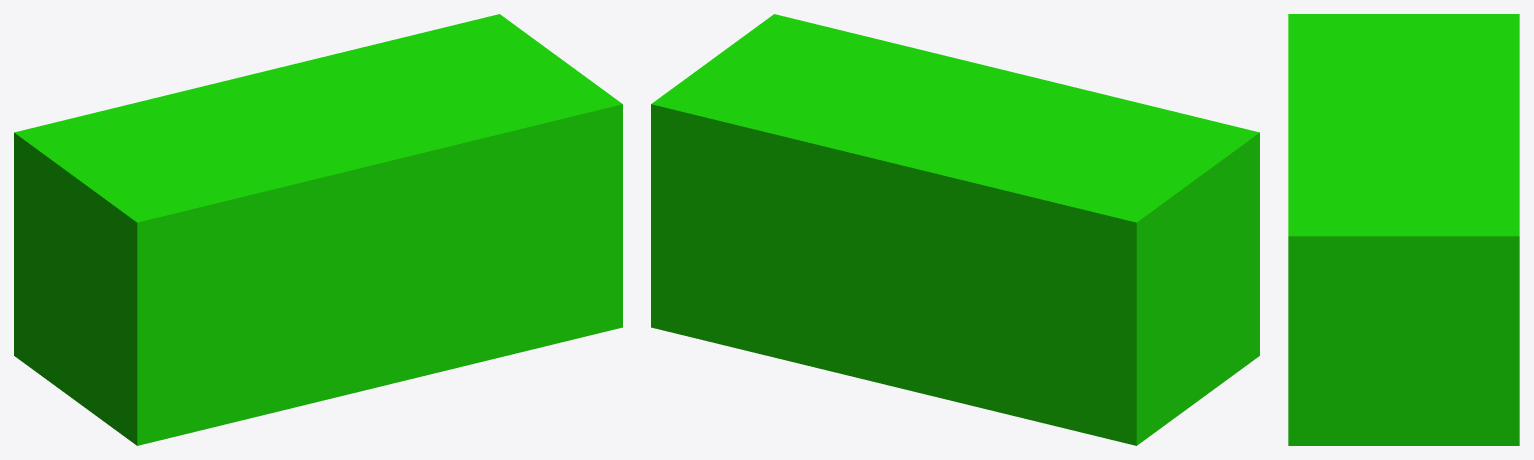
Rendered from DataCenter_Medium_Cityl.glb.
3 views of the same model, side by side, from view 1: azimuth 30°, elevation 25°; view 2: azimuth 150°, elevation 25°; view 3: azimuth 270°, elevation 25° (orthographic). The views are drawn at different scales.
Parts seen in each view (by area): view 1: Cube.010; view 2: Cube.010; view 3: Cube.010.
Boxes of the visible parts, left/top/right/bottom form: Cube.010: left=14, top=14, right=622, bottom=445; Cube.010: left=651, top=14, right=1259, bottom=445; Cube.010: left=1288, top=14, right=1519, bottom=445.
Bounding box in the file's own units: 14.41 × 6.33 × 6.33.
